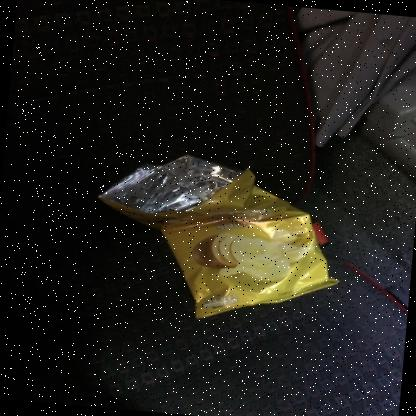Crisp packet: (97, 154, 340, 319)
